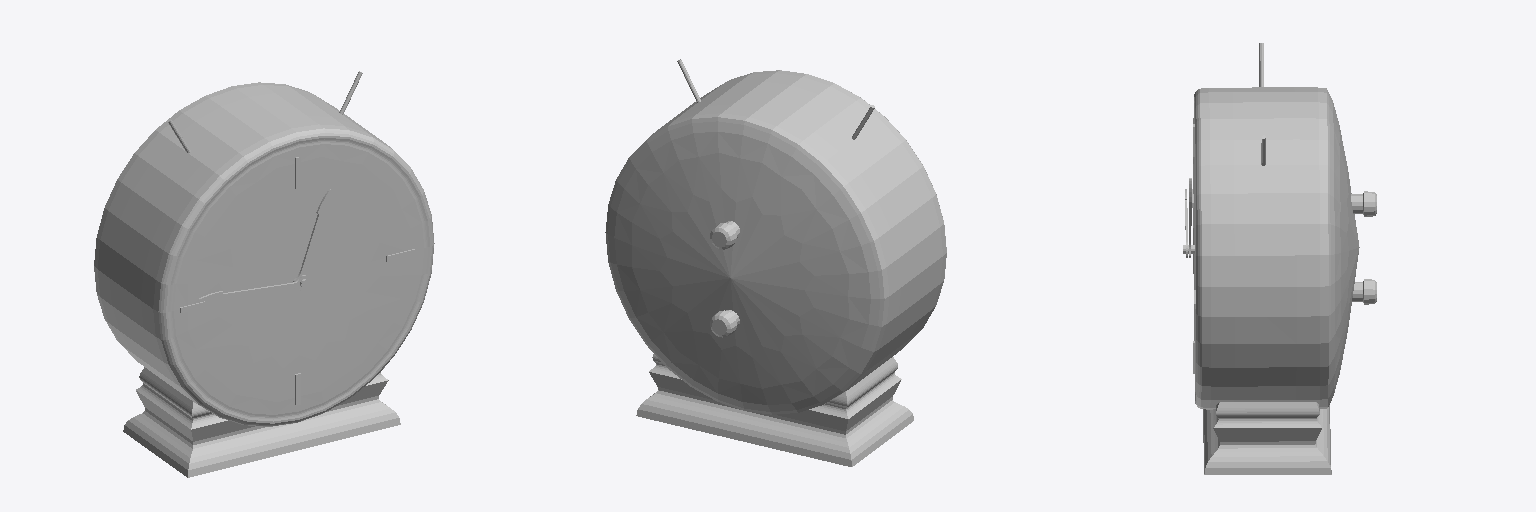
Rendered from Reloj_CatDog.obj.
3 views of the same model, side by side, from view 1: azimuth 30°, elevation 25°; view 2: azimuth 150°, elevation 25°; view 3: azimuth 270°, elevation 25° (orthographic).
Parts seen in each view (by area): view 1: polySurface1327; view 2: polySurface1327; view 3: polySurface1327.
Part boxes in pixels (left/top/right/bottom): polySurface1327: left=94, top=71, right=434, bottom=477; polySurface1327: left=605, top=59, right=946, bottom=466; polySurface1327: left=1183, top=43, right=1376, bottom=474.
Bounding box in the file's own units: 0.6123 × 0.6986 × 0.3688.